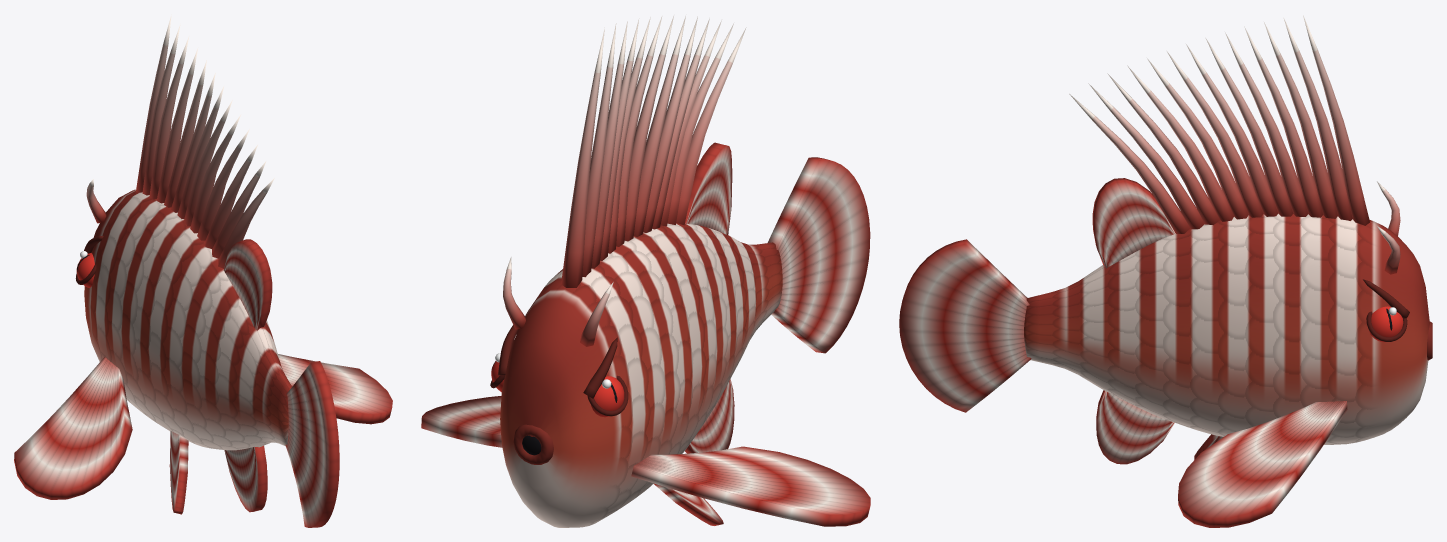
The model's file is Lionfish.glb.
3 renders of one model, left to right at view 1: azimuth 30°, elevation 25°; view 2: azimuth 150°, elevation 25°; view 3: azimuth 270°, elevation 25°, orthographic. The views are drawn at different scales.
Visible parts, largest first — view 1: Lionfish; view 2: Lionfish; view 3: Lionfish.
Boxes of the visible parts, x1,y1,x2,y2 form: Lionfish: (14,14,392,527); Lionfish: (421,16,870,527); Lionfish: (899,15,1432,527).
Size of the model in its own units: 1.84 by 2.19 by 2.23.
1 material, 1 textured.
